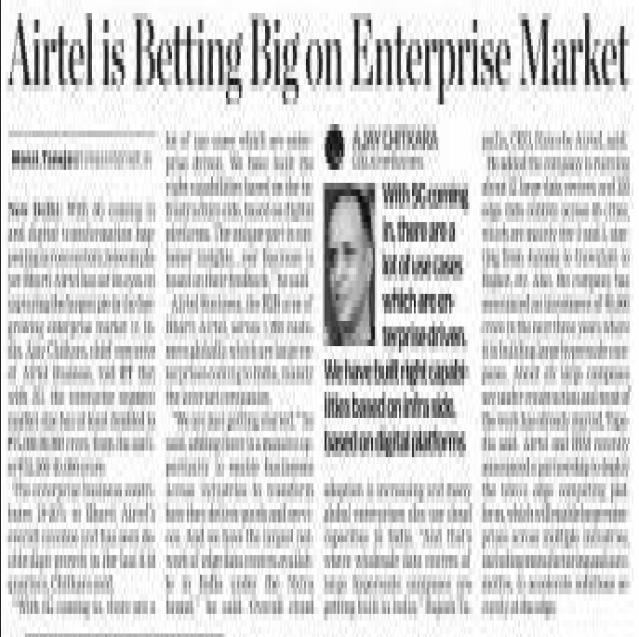paper: (1, 0, 639, 637)
